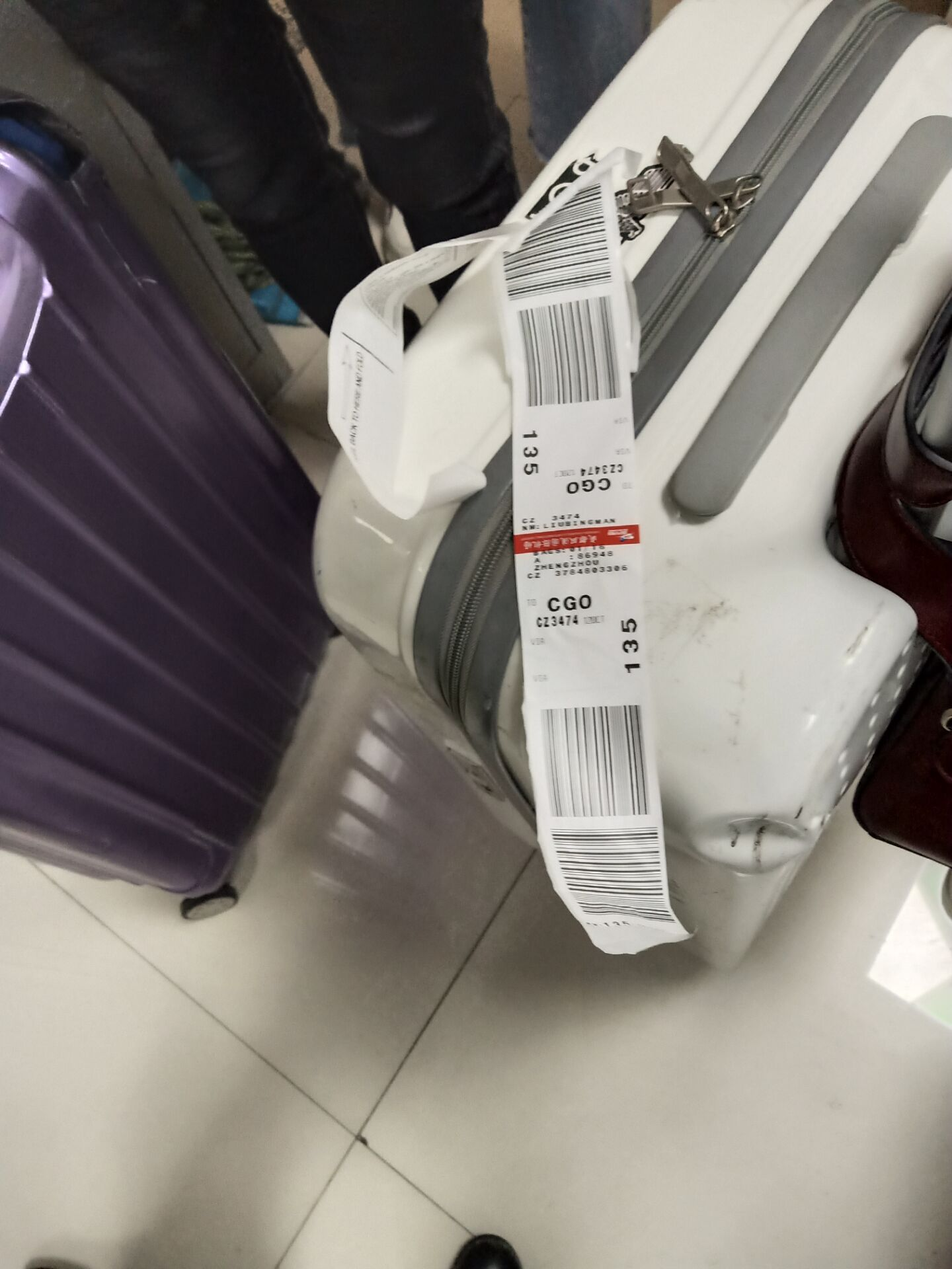rupture: (691, 811, 811, 874)
